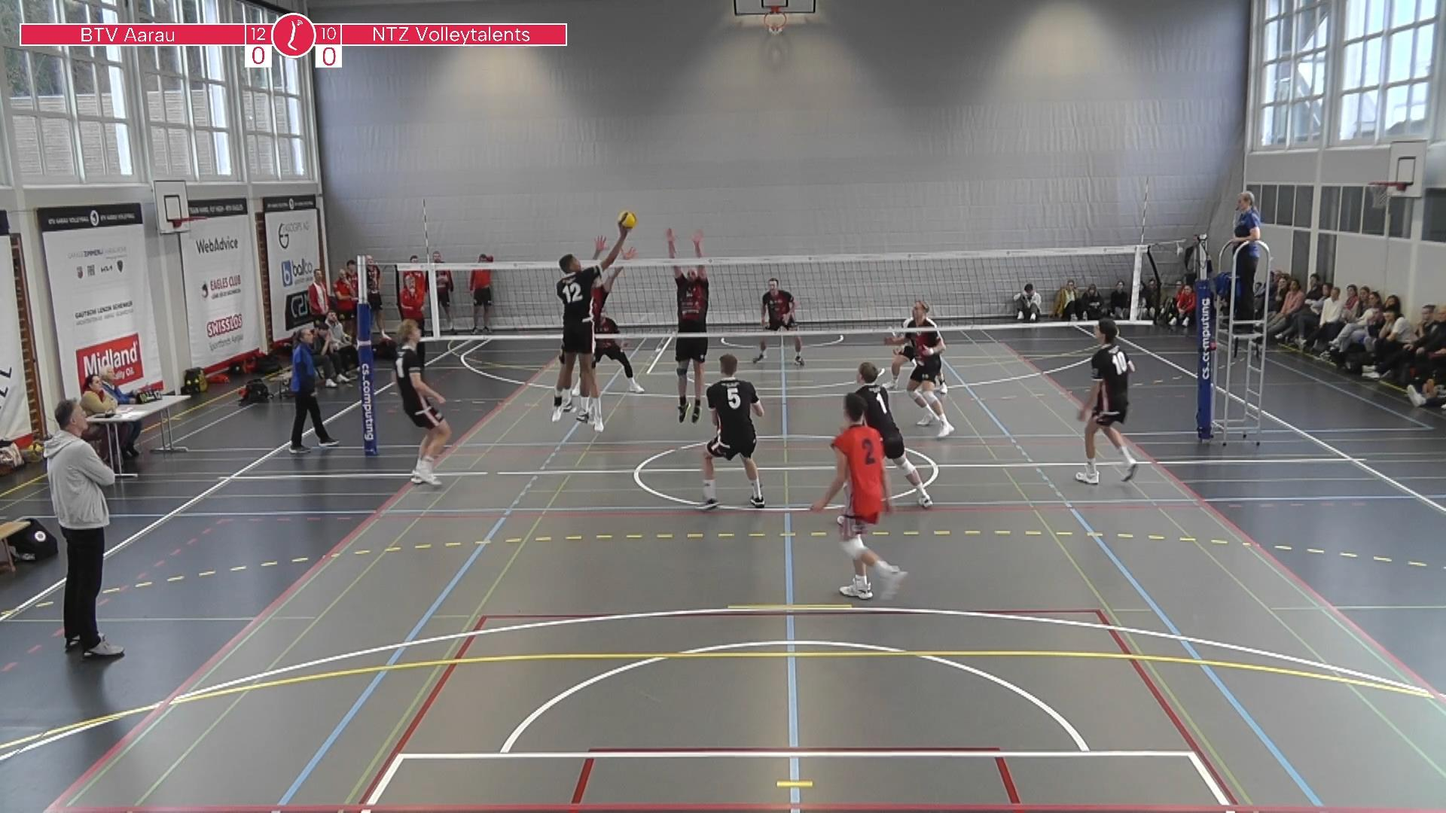Attack: (548, 224, 630, 435)
Block: (660, 222, 714, 425), (584, 235, 641, 333)
Player: (812, 393, 906, 598), (856, 362, 932, 507), (1075, 318, 1137, 484), (700, 354, 764, 509), (395, 320, 450, 485), (888, 300, 953, 437), (594, 311, 644, 393), (761, 279, 797, 332), (887, 331, 916, 388)
